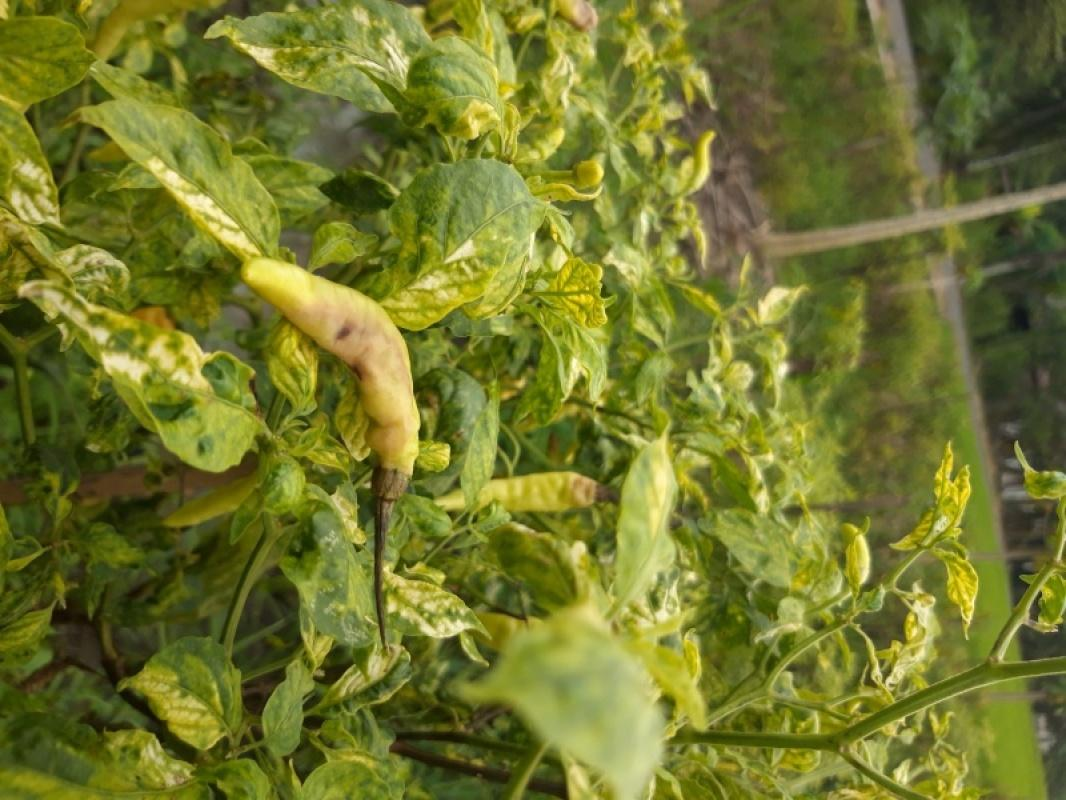cabai_normal: (430, 470, 598, 513)
lalat_buah: (240, 259, 423, 475)
